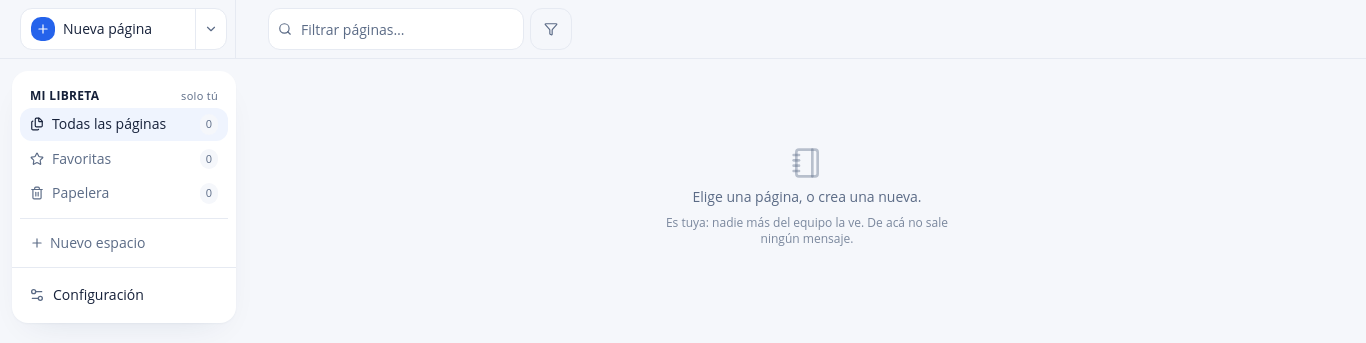
el botón dividido de «Nueva página» ofrece las dos formas de empezar
Click the button "Todas las páginas 0": (124, 124) [20,108,228,140]
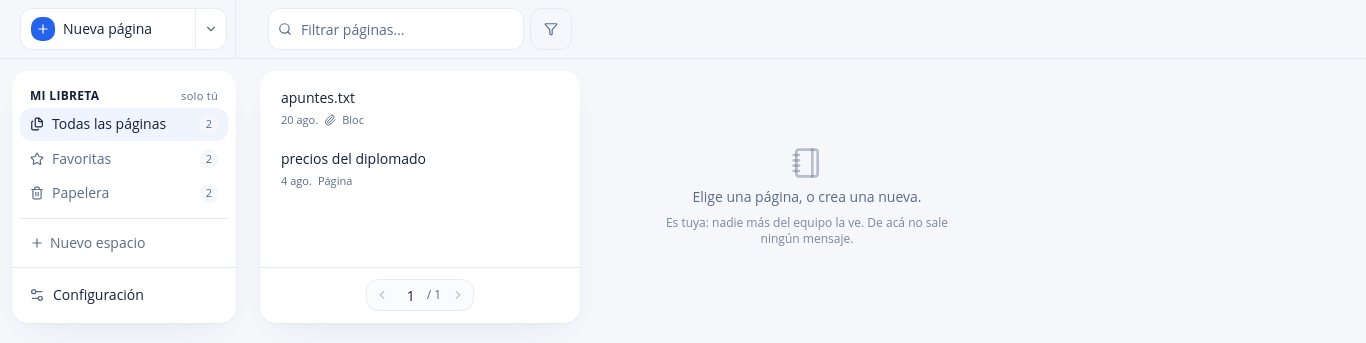
Expected: the button "Nueva página" is shown, [21,9,195,49]
Click the button named "Más formas de crear una página": (210, 29) [195,9,226,49]
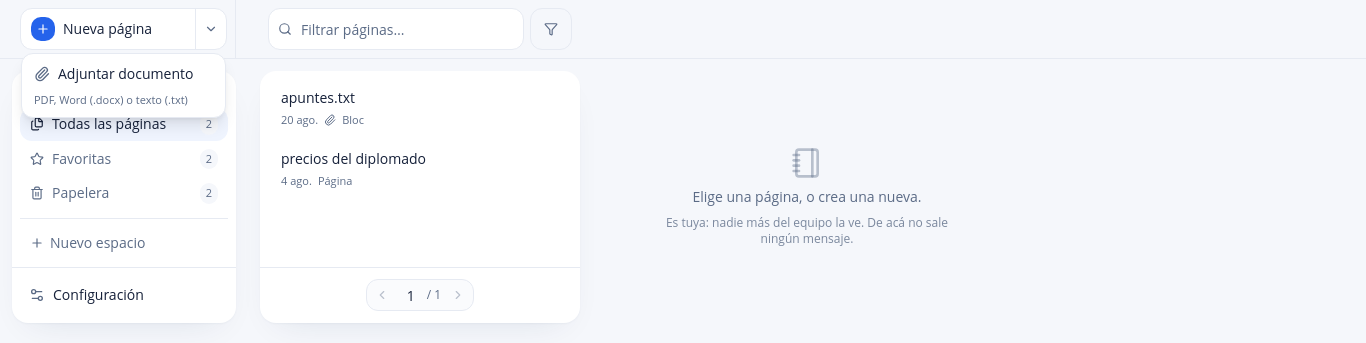
Result: the button "Adjuntar documento" is shown at [26,58,221,90]
